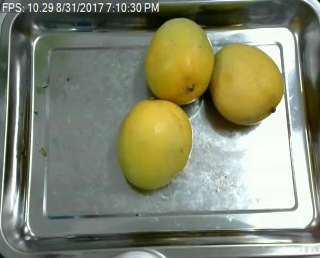Mango: (203, 39, 288, 128), (120, 96, 196, 192), (148, 16, 217, 108)
